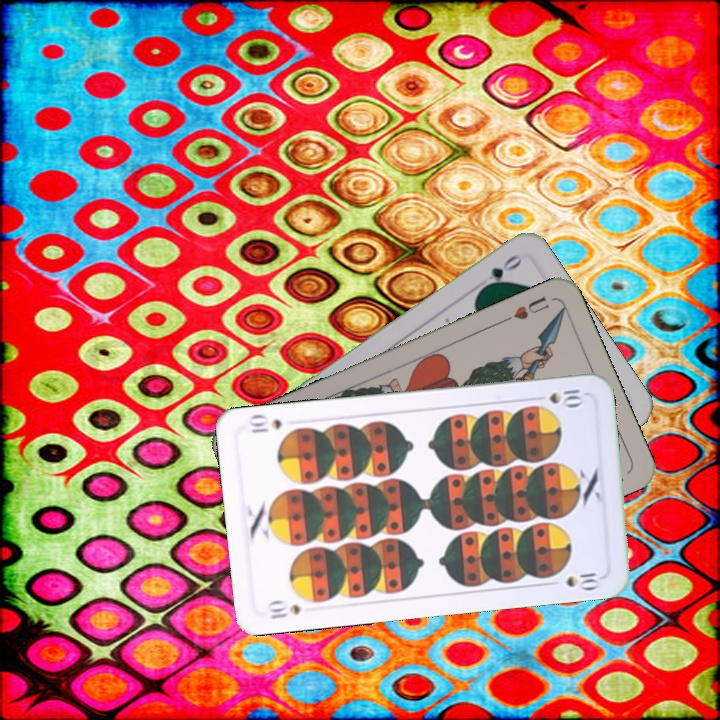GO: (476, 250, 526, 294)
HU: (499, 292, 552, 325)
S10: (545, 384, 588, 408), (264, 597, 304, 622)
